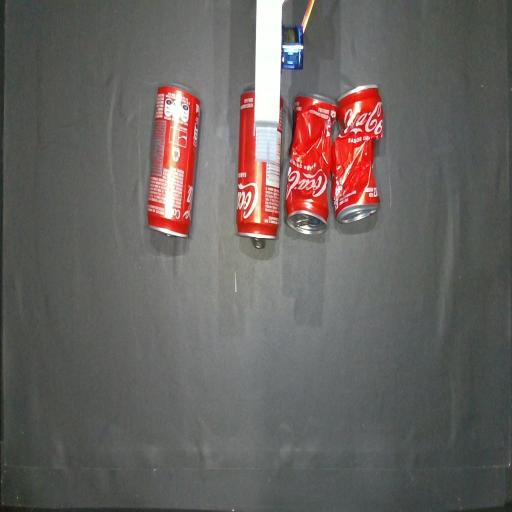lata: (147, 84, 201, 237), (236, 86, 283, 248)
lata_defectuoso: (285, 94, 337, 234), (331, 84, 383, 222)
